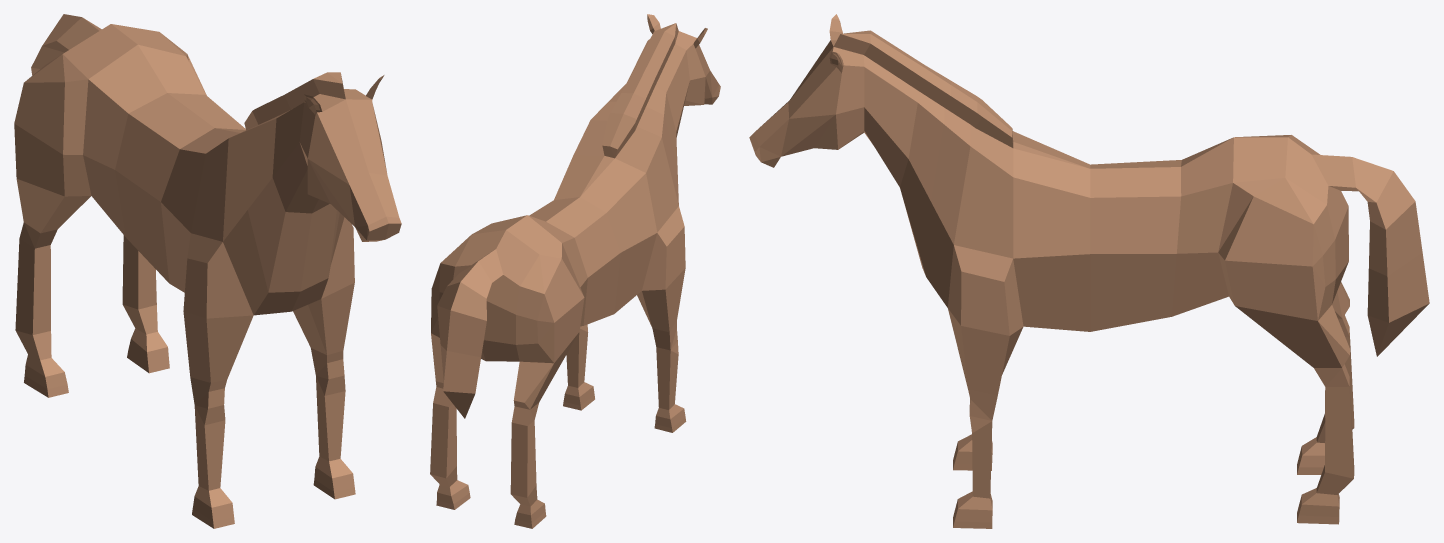
Rendered from quaternius_Horse.glb.
3 renders of one model, left to right at view 1: azimuth 30°, elevation 25°; view 2: azimuth 150°, elevation 25°; view 3: azimuth 270°, elevation 25°, orthographic. The views are drawn at different scales.
Bounding box in the file's own units: 0.1281 × 0.3453 × 0.462.
